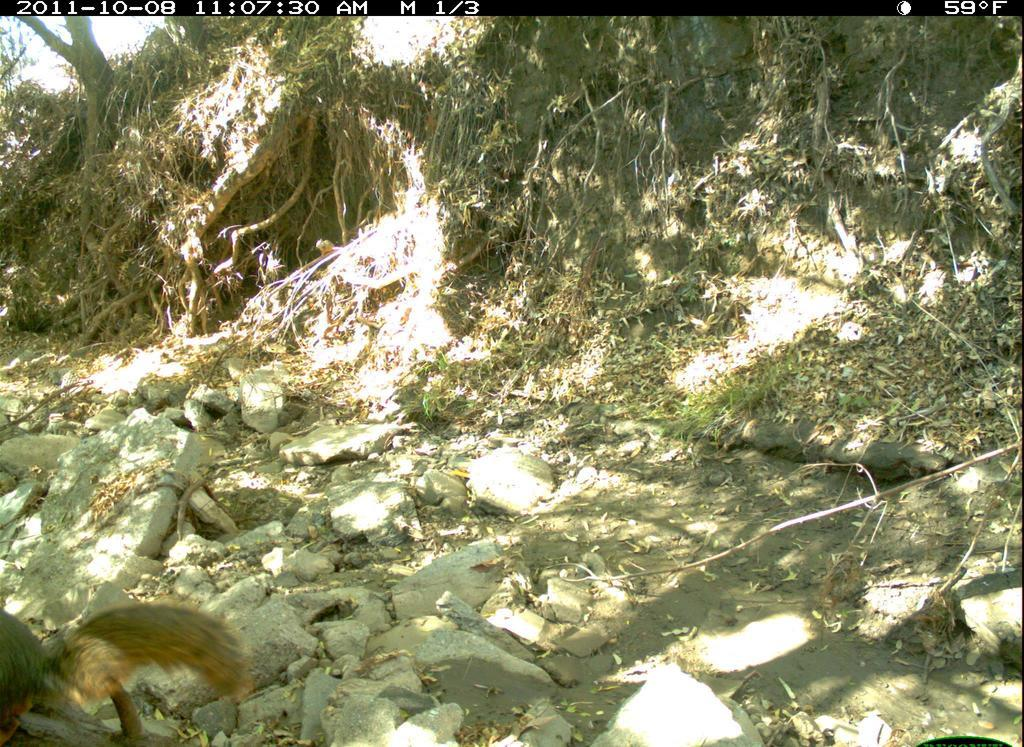squirrel: (12, 570, 254, 725)
